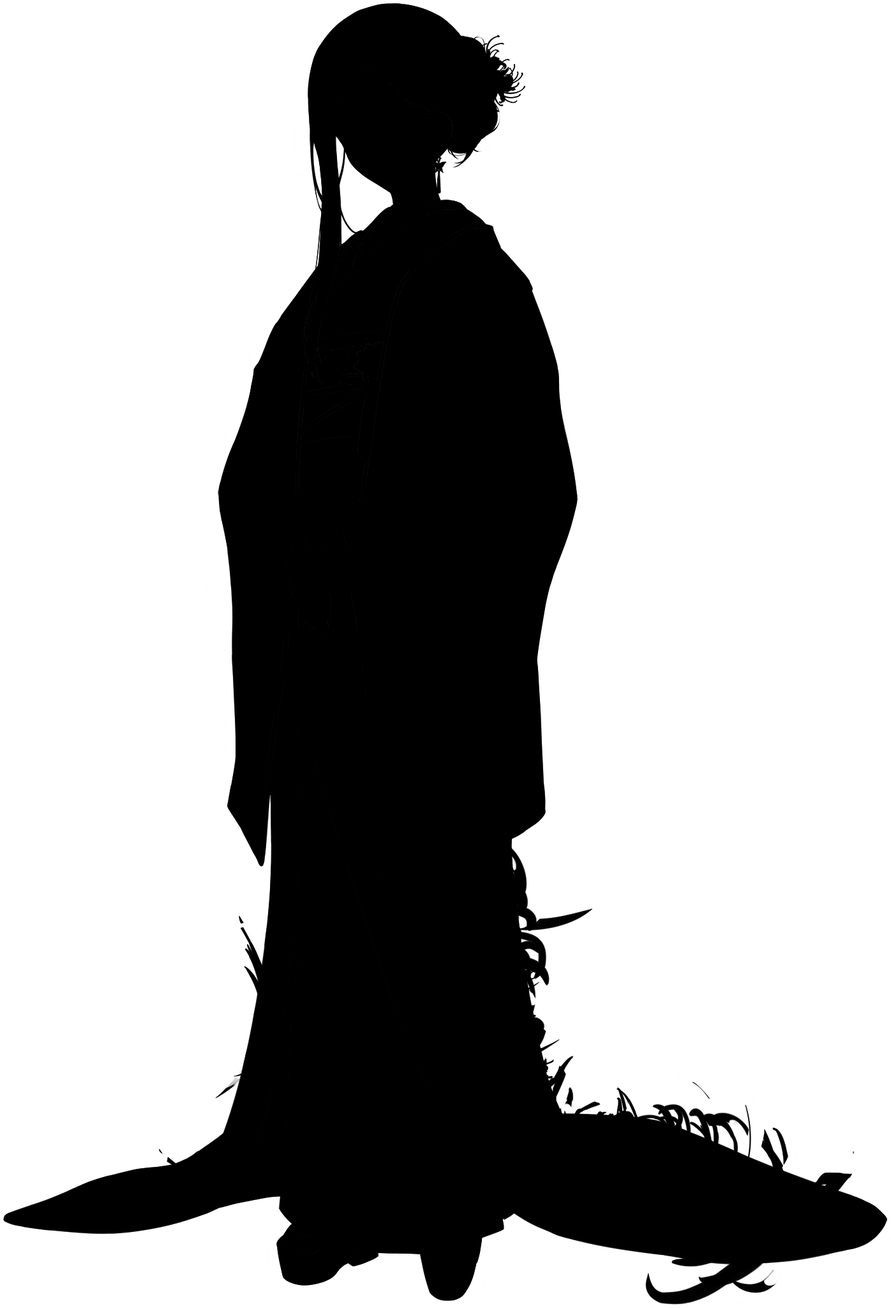person: (137, 2, 629, 1302)
